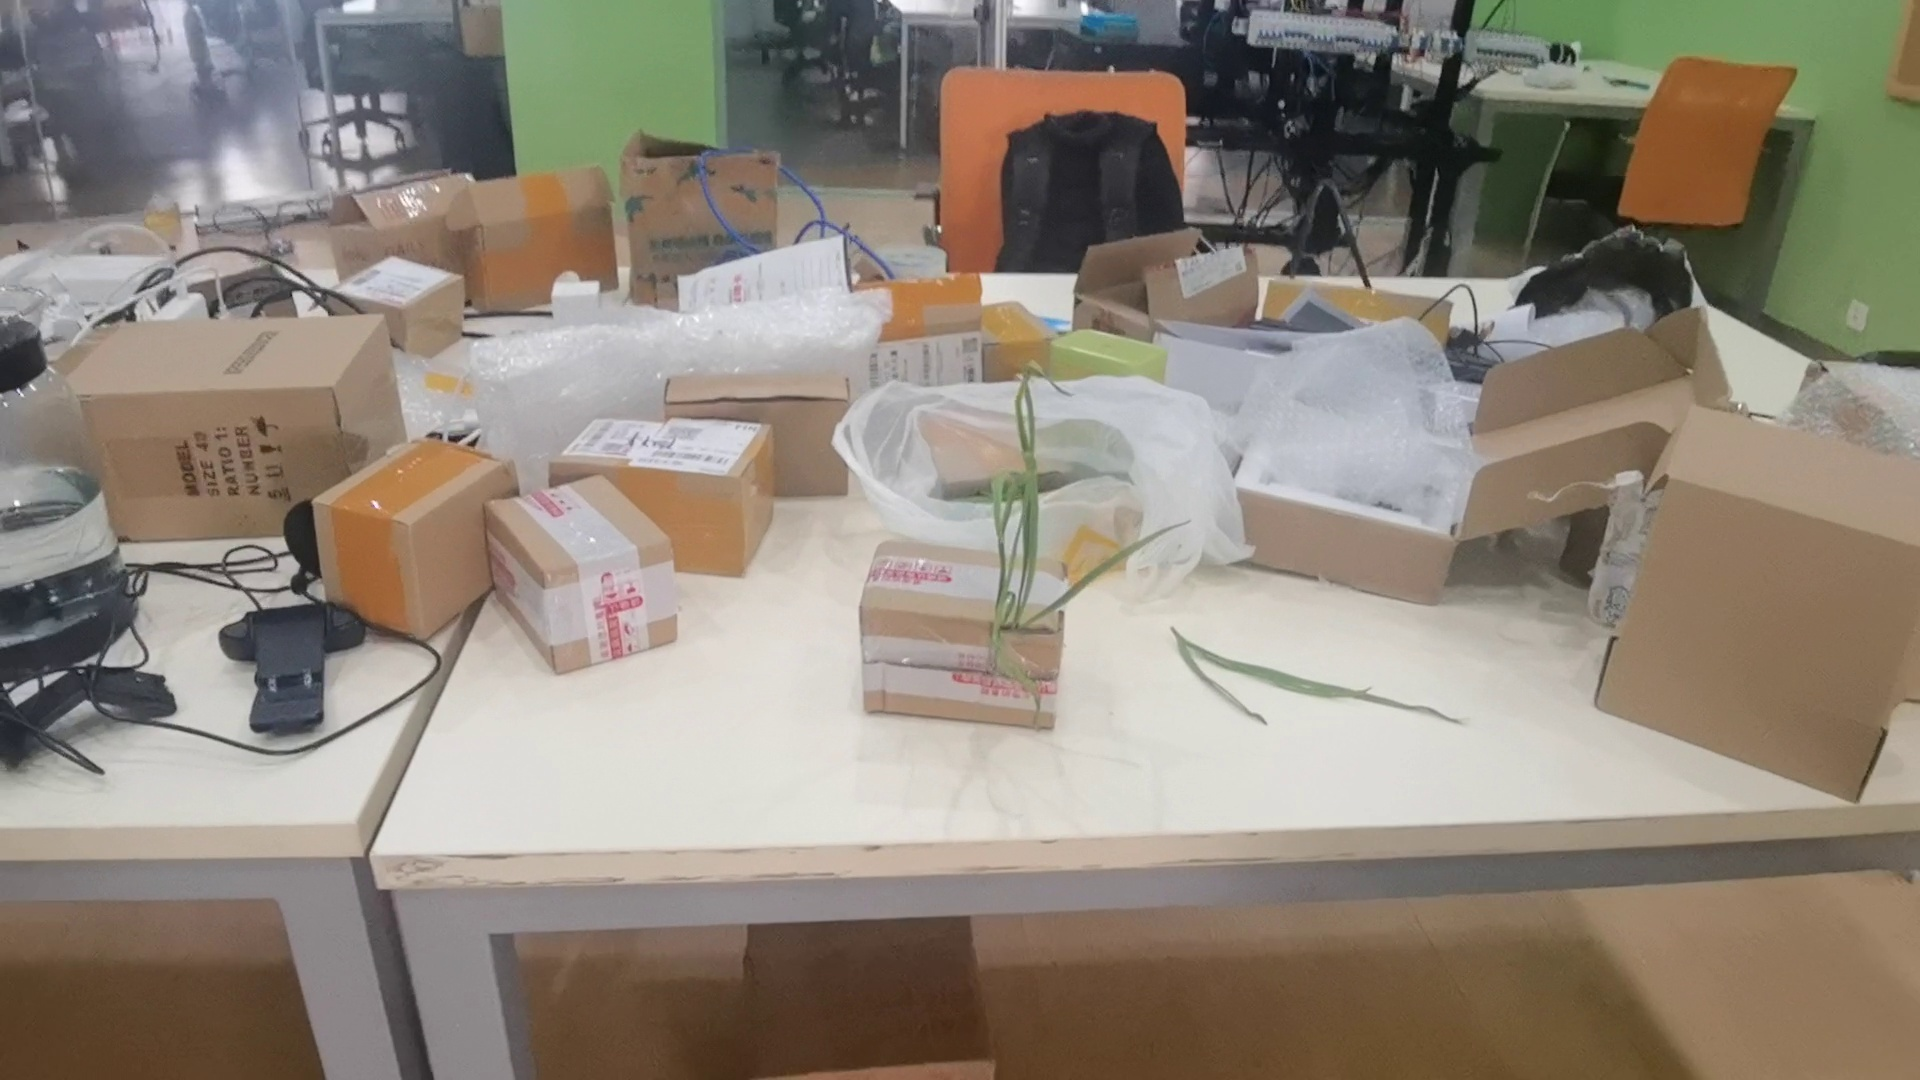chives: (959, 363, 1188, 695), (1155, 613, 1535, 742)
